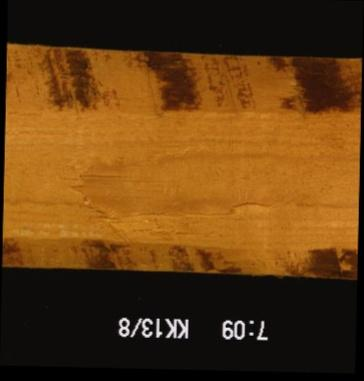split: (71, 169, 134, 185)
wave: (4, 46, 360, 119), (0, 234, 356, 271)
